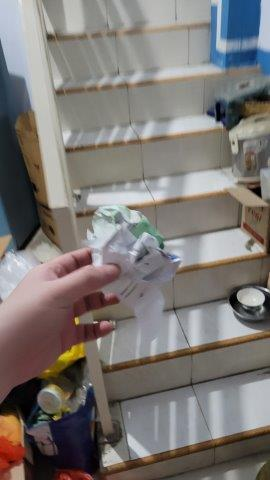kertas: (83, 203, 181, 330)
